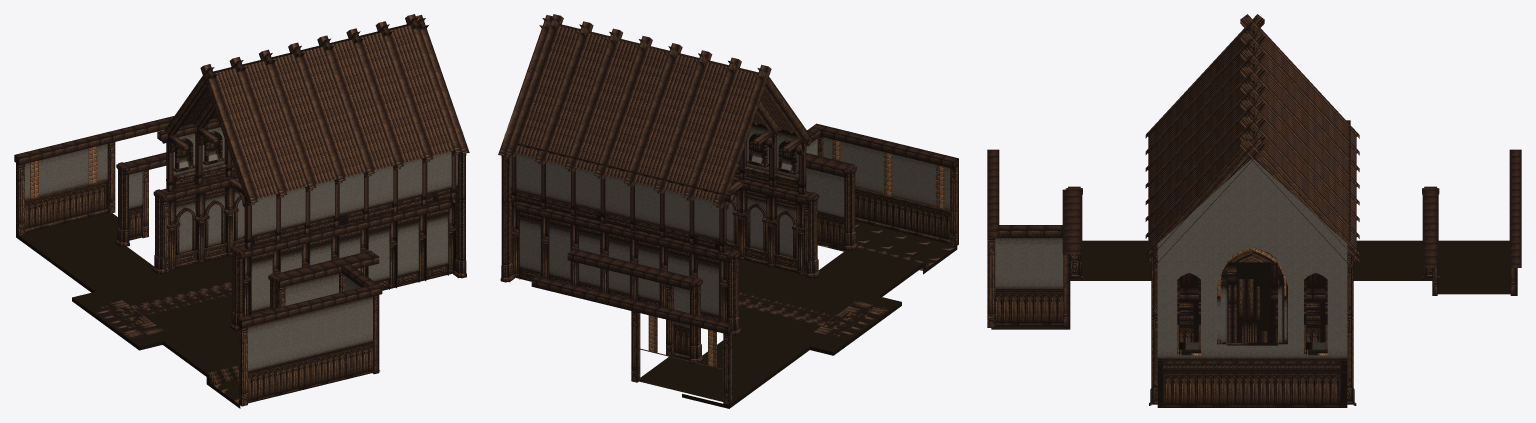
Rendered from EnvBdgMD_Church_Sea_A_Indoor_A.FBX.
The picture shows the model from 3 angles, left to right: view 1: azimuth 30°, elevation 25°; view 2: azimuth 150°, elevation 25°; view 3: azimuth 270°, elevation 25°; orthographic projection. The views are drawn at different scales.
Parts seen in each view (by area): view 1: EnvBdgMD_Church_Sea_A_Indoor_A; view 2: EnvBdgMD_Church_Sea_A_Indoor_A; view 3: EnvBdgMD_Church_Sea_A_Indoor_A.
Boxes of the visible parts, box(x1,y1,x2,y2) form: EnvBdgMD_Church_Sea_A_Indoor_A: box(14, 14, 469, 408); EnvBdgMD_Church_Sea_A_Indoor_A: box(498, 14, 958, 408); EnvBdgMD_Church_Sea_A_Indoor_A: box(987, 14, 1521, 407).
Bounding box in the file's own units: 2795 × 1976 × 3375.
